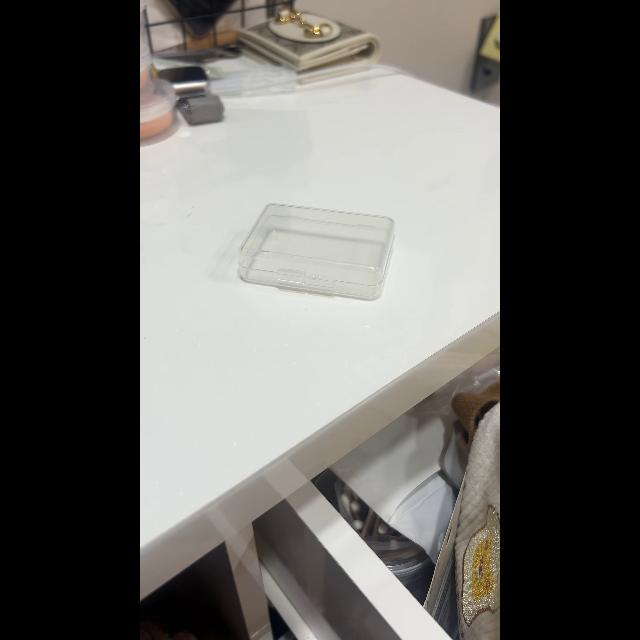clean: (236, 202, 394, 300)
